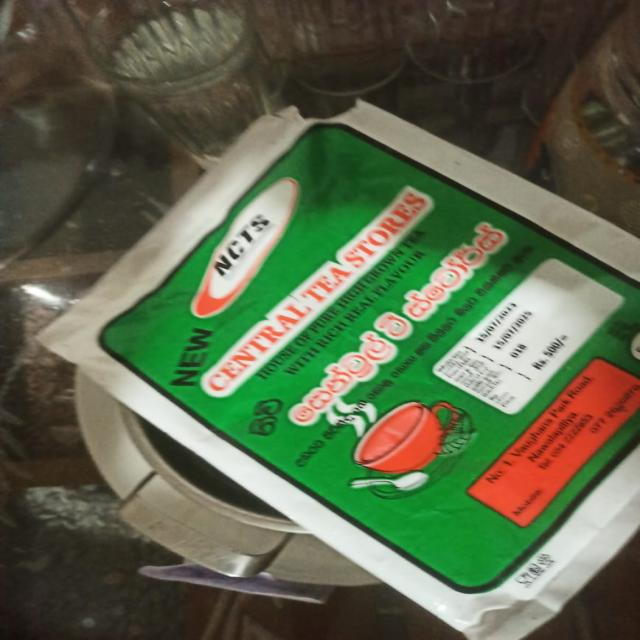Central Tea: (24, 140, 640, 638)
